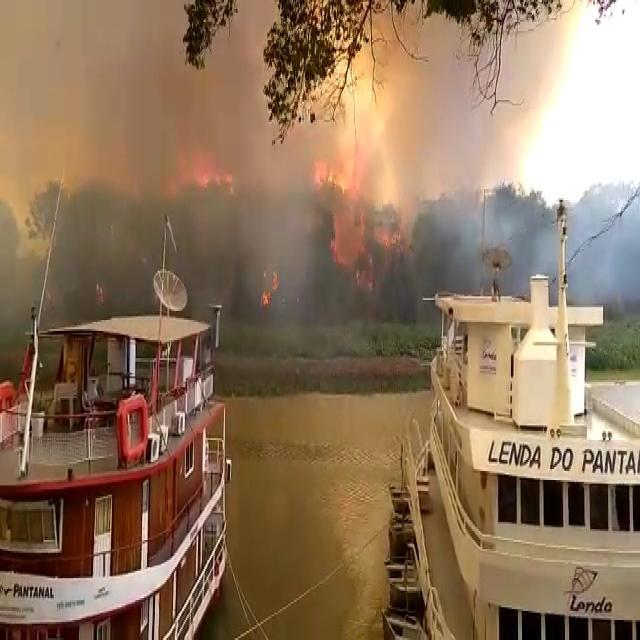Fire: (313, 143, 409, 274), (169, 144, 252, 198), (255, 262, 286, 322)
Smoke: (12, 3, 320, 182), (361, 2, 548, 274), (239, 198, 325, 324)
